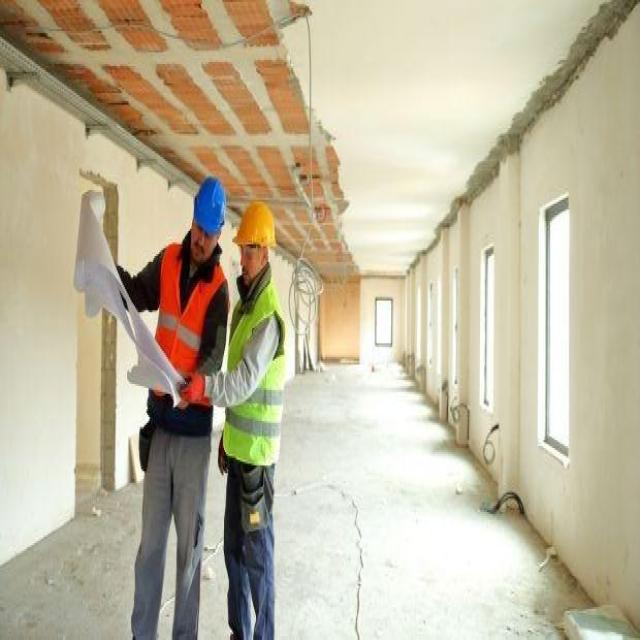helmet: (192, 169, 224, 242), (235, 200, 277, 250)
vest: (232, 289, 286, 483), (158, 238, 205, 426)
